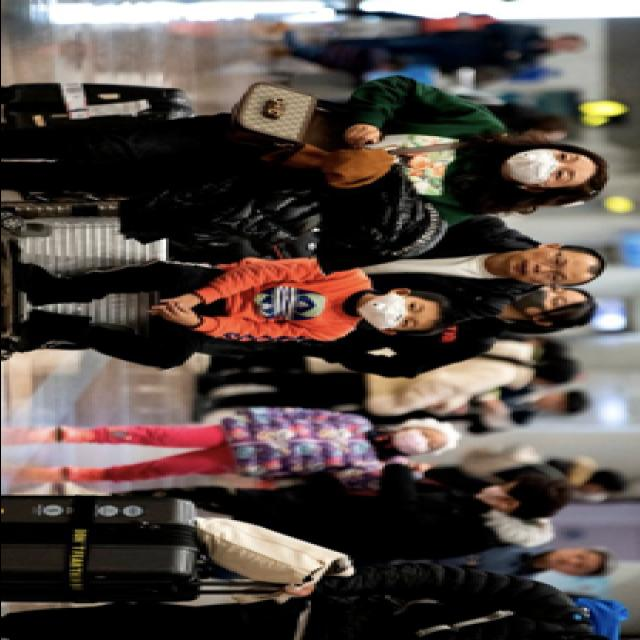mask: (501, 146, 588, 186), (358, 292, 432, 326), (509, 284, 575, 314), (389, 428, 444, 454), (475, 482, 521, 508)
no_mask: (506, 248, 580, 282), (546, 547, 600, 573)
